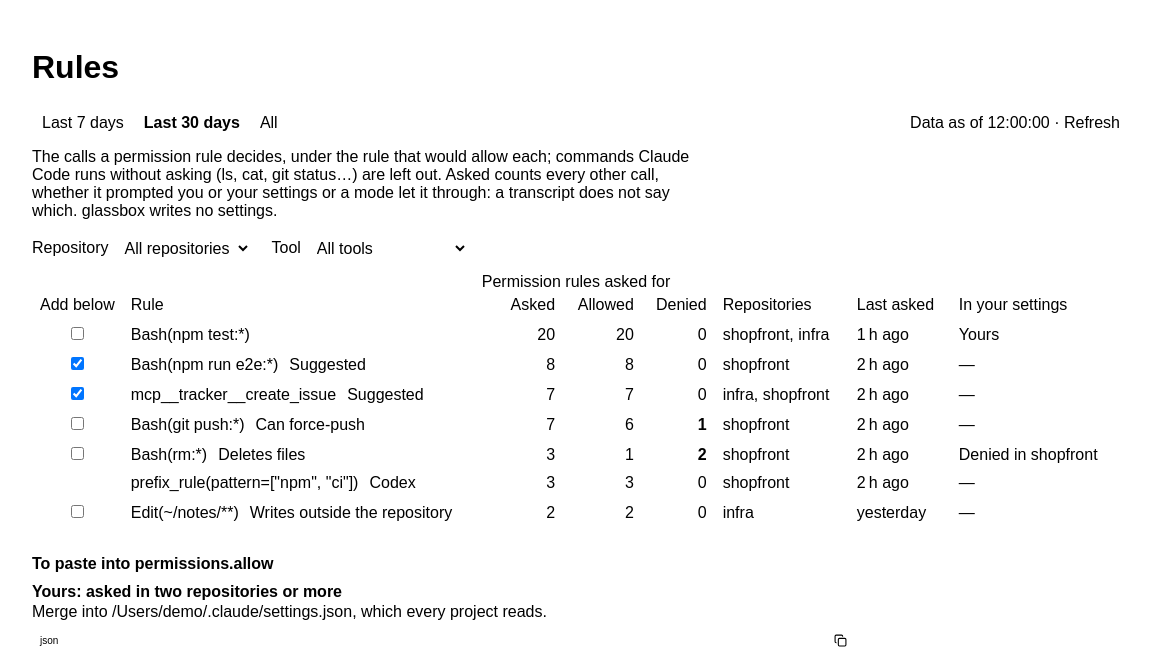
Test case: the Rules page › filters by repository, with that repository’s counts, and by tool
This screenshot has width=1152, height=655.
Expected: the table is shown, [32,273,1120,527]
Select "infra" in the dropdown labelled "Repository". click: (183, 248)
box: [114,236,252,261]
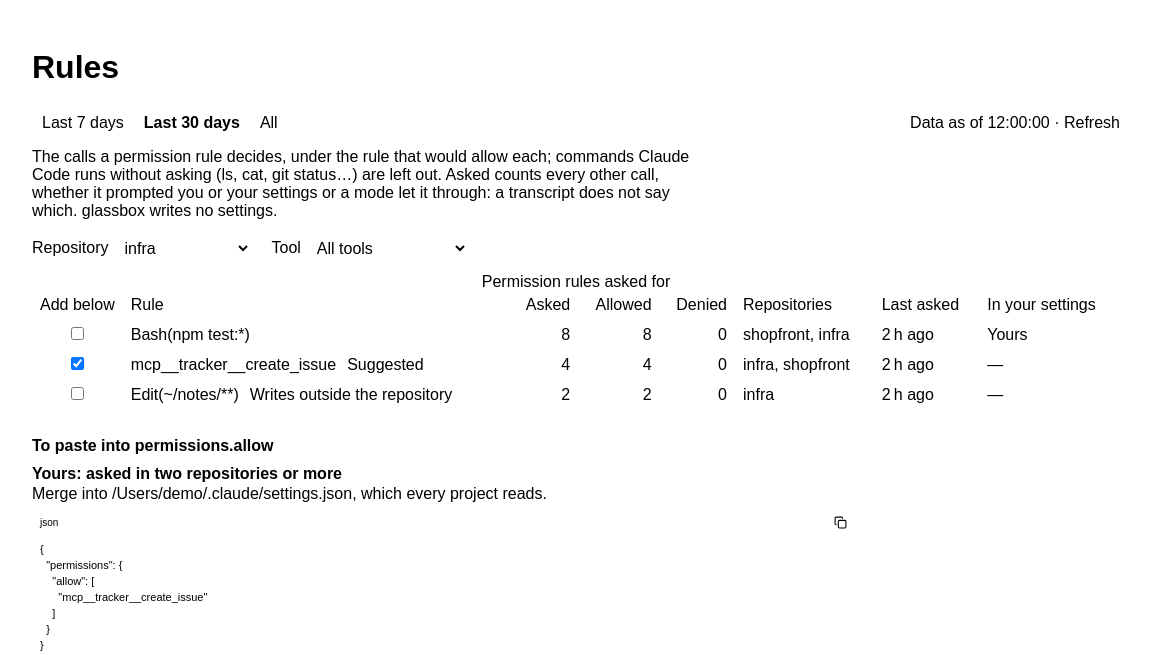
Select "Bash" in the dropdown labelled "Tool". click: (387, 248)
box: [307,236,468,261]
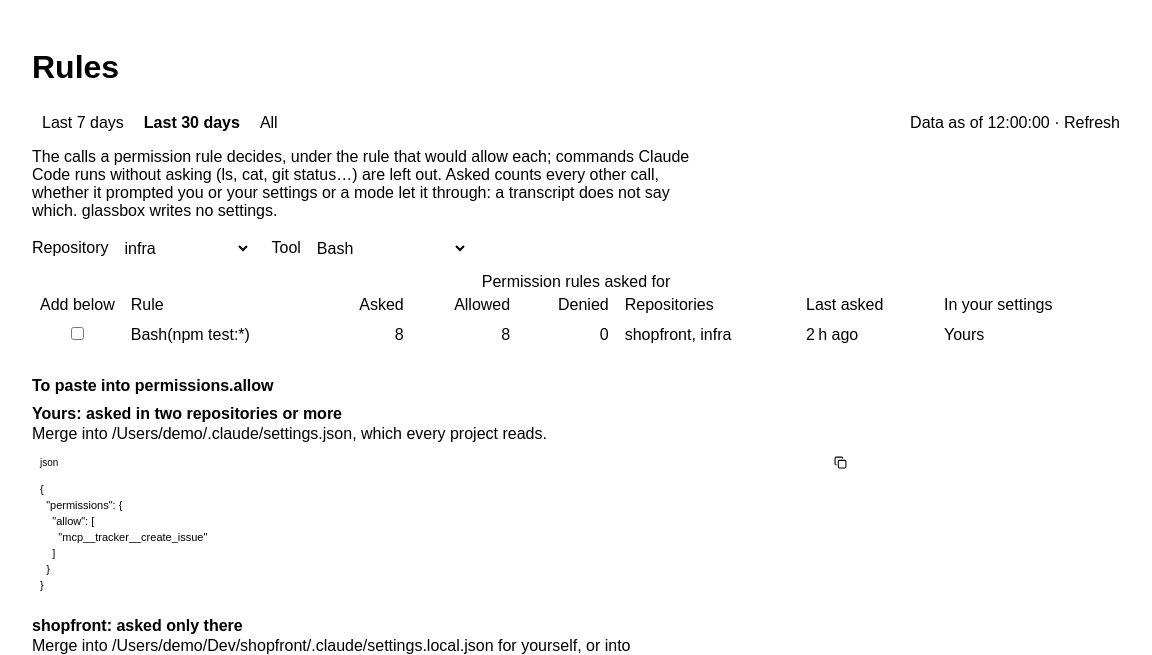
Select "Edit" in the dropdown labelled "Tool". click: (387, 248)
box: [307,236,468,261]
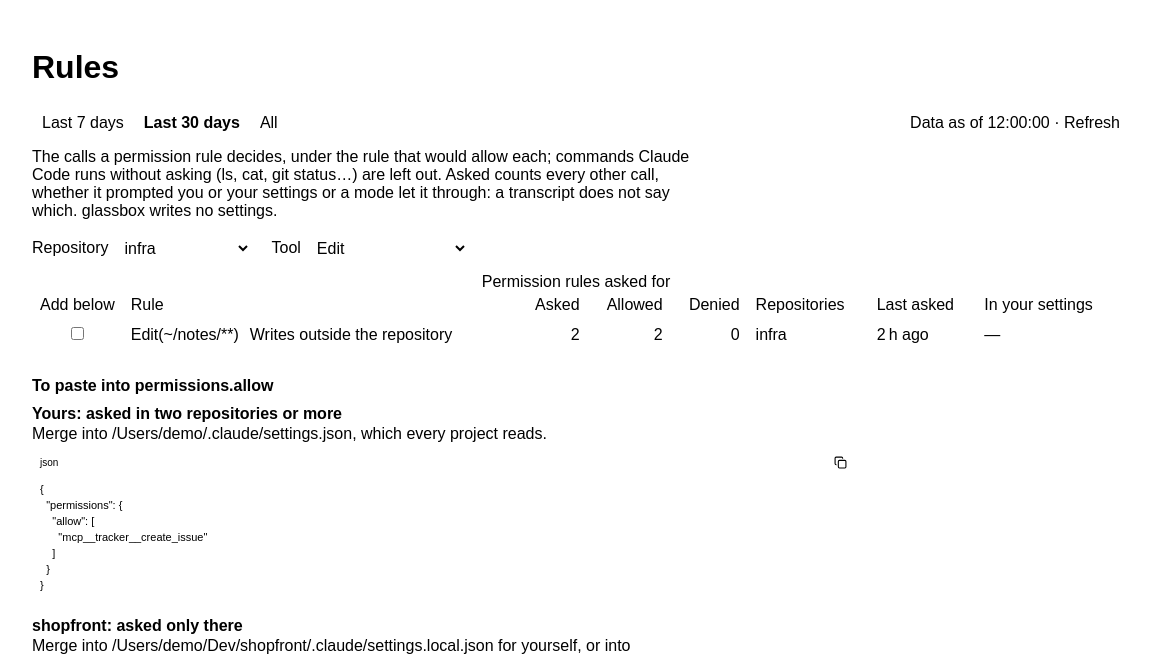
Select "shopfront" in the dropdown labelled "Repository". click: (183, 248)
box: [114,236,252,261]
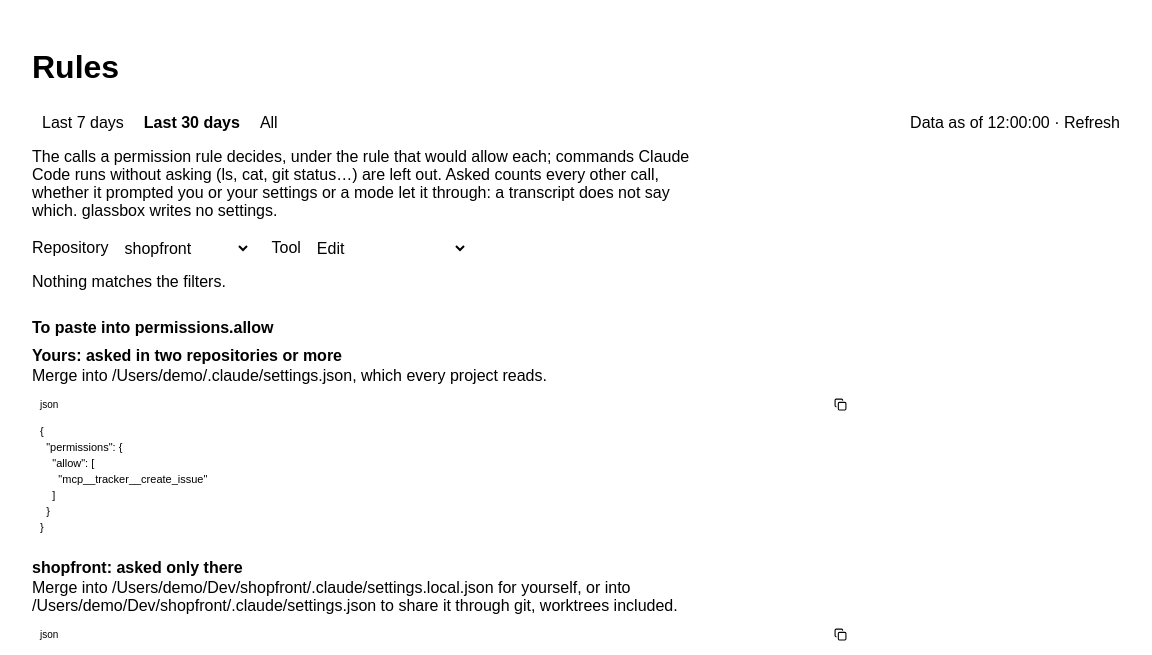
Expected: the text "Nothing matches the filters." is shown, [32,273,226,290]
